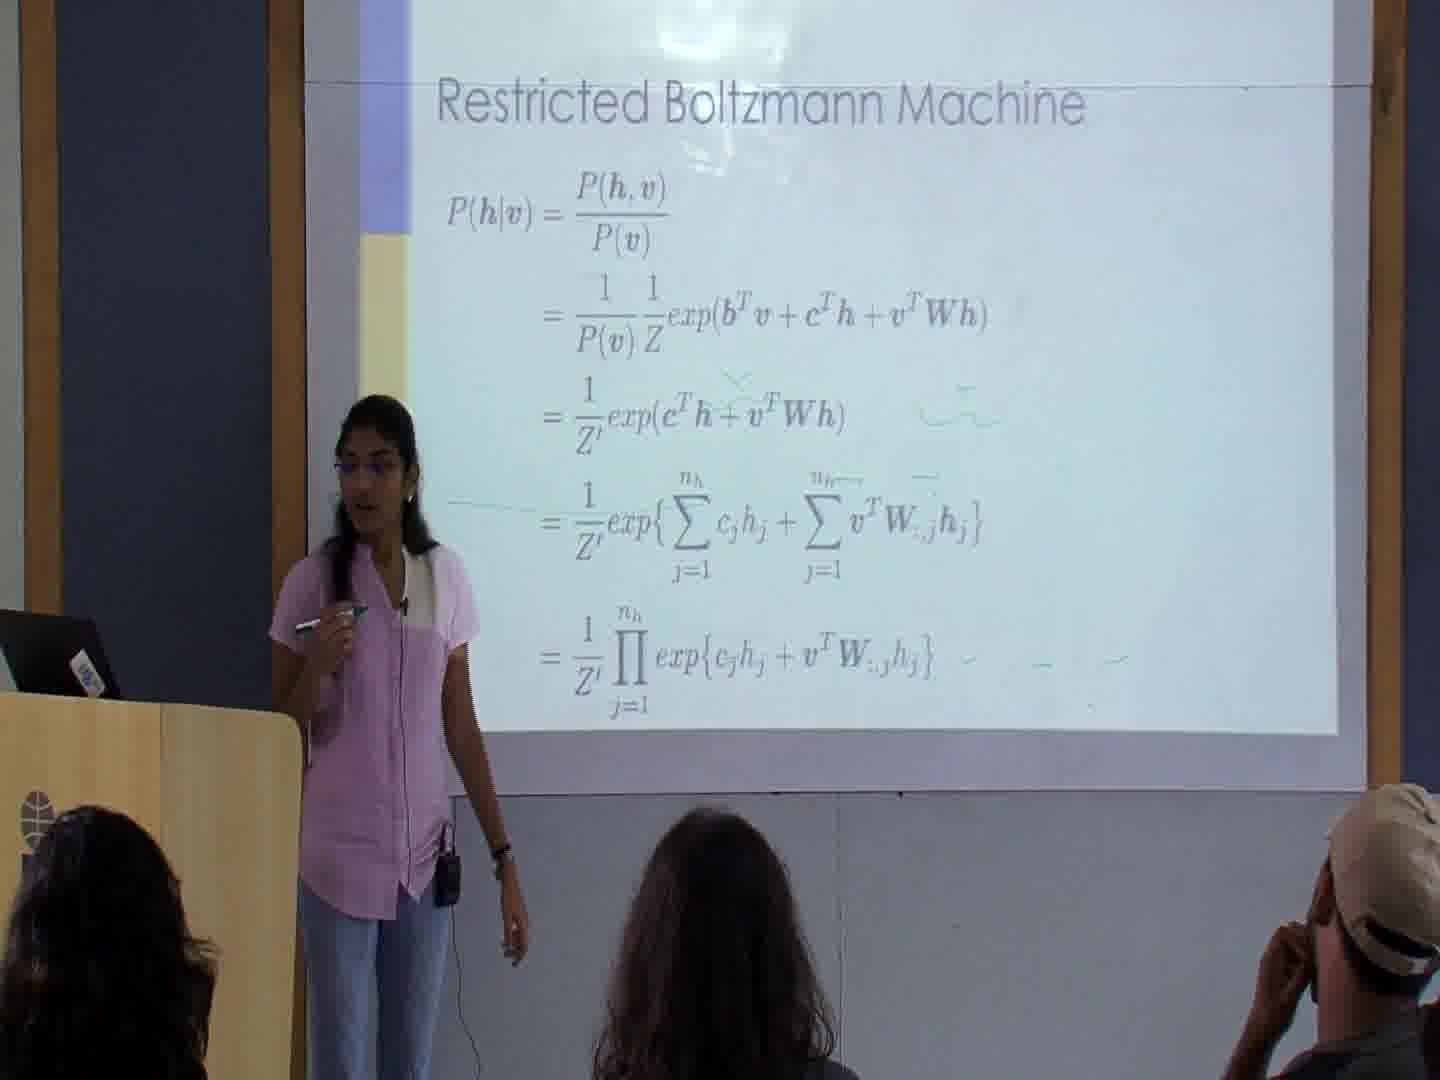eq: (536, 466, 983, 589), (533, 602, 942, 723), (534, 271, 998, 358), (534, 373, 852, 457), (443, 167, 674, 259)
